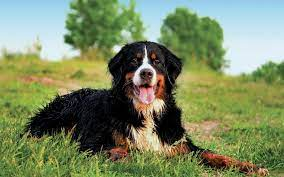dog: (99, 33, 213, 116)
